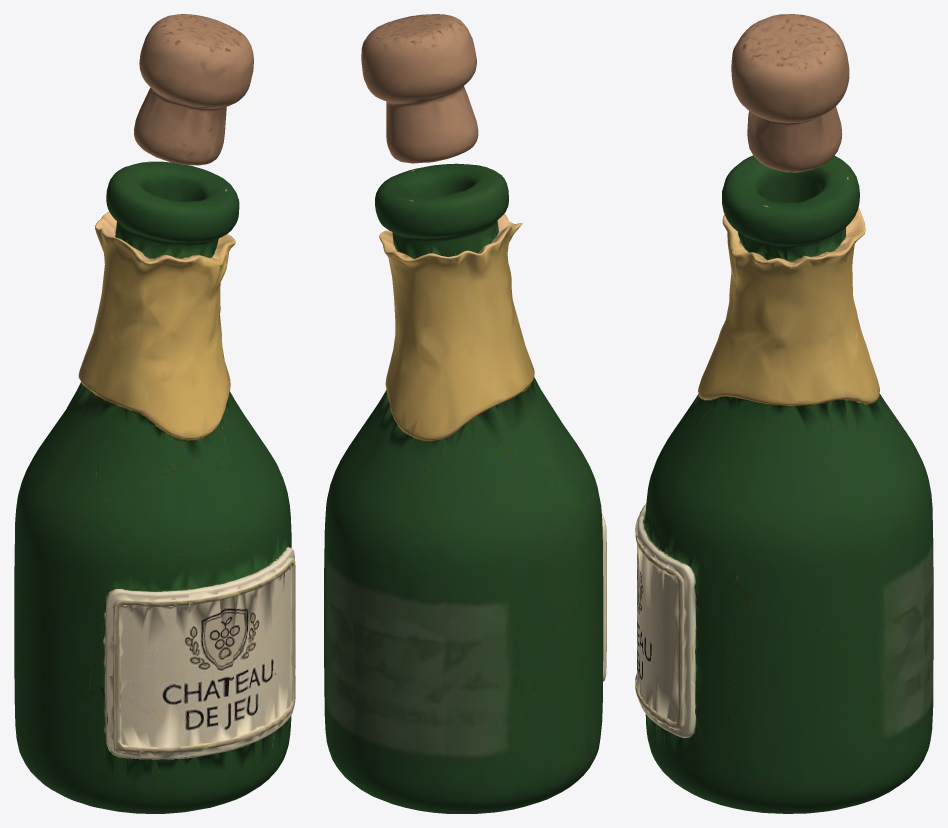
The model's file is champagne.glb.
The picture shows the model from 3 angles, left to right: view 1: azimuth 30°, elevation 25°; view 2: azimuth 150°, elevation 25°; view 3: azimuth 270°, elevation 25°; orthographic projection. The views are drawn at different scales.
Size of the model in its own units: 0.6526 by 1.9 by 0.677.
Materials: 1 (1 with a texture image).
